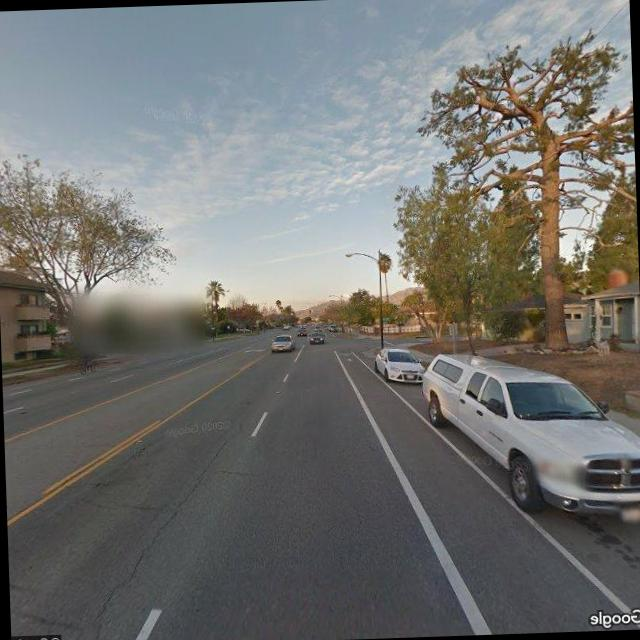pothole: (85, 432, 241, 635)
